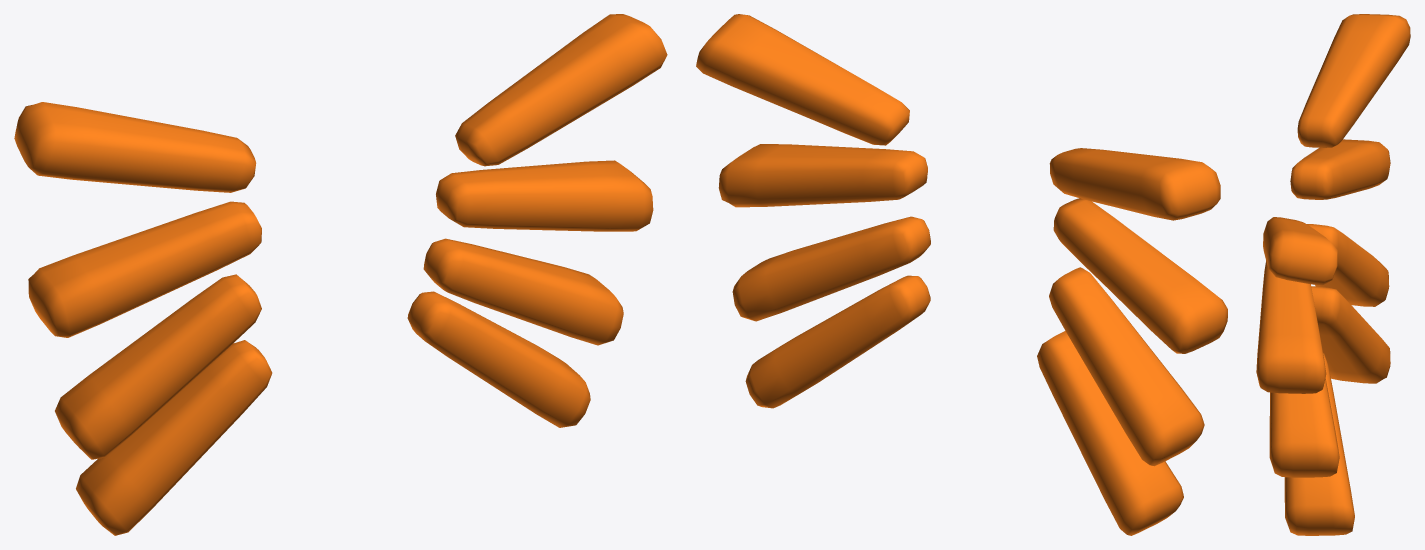
File: Arms.glb
The picture shows the model from 3 angles, left to right: view 1: azimuth 30°, elevation 25°; view 2: azimuth 150°, elevation 25°; view 3: azimuth 270°, elevation 25°; orthographic projection. The views are drawn at different scales.
Parts seen in each view (by area): view 1: Profiler3.001, Profiler3.002, Profiler3.008, Profiler3.003, Profiler3.007, Profiler3.006, Profiler3.005, Profiler3.004; view 2: Profiler3.002, Profiler3.007, Profiler3.001, Profiler3.006, Profiler3.003, Profiler3.005, Profiler3.004, Profiler3.008; view 3: Profiler3.008, Profiler3.006, Profiler3.005, Profiler3.003, Profiler3.004, Profiler3.001, Profiler3.007, Profiler3.002.
Boxes of the visible parts, <box> form: Profiler3.001: <box>28,201,261,337</box>; Profiler3.002: <box>55,274,261,459</box>; Profiler3.008: <box>14,102,256,192</box>; Profiler3.003: <box>76,340,272,535</box>; Profiler3.007: <box>455,14,667,166</box>; Profiler3.006: <box>436,160,653,231</box>; Profiler3.005: <box>423,238,623,345</box>; Profiler3.004: <box>407,291,590,427</box>; Profiler3.002: <box>1049,267,1204,466</box>; Profiler3.007: <box>696,14,909,145</box>; Profiler3.001: <box>1053,198,1227,353</box>; Profiler3.006: <box>718,144,927,207</box>; Profiler3.003: <box>1037,331,1183,535</box>; Profiler3.005: <box>732,216,930,321</box>; Profiler3.004: <box>745,275,930,408</box>; Profiler3.008: <box>1049,148,1220,220</box>; Profiler3.008: <box>1297,14,1410,147</box>; Profiler3.006: <box>1256,261,1326,393</box>; Profiler3.005: <box>1269,378,1339,477</box>; Profiler3.003: <box>1311,286,1390,383</box>; Profiler3.004: <box>1284,353,1354,535</box>; Profiler3.001: <box>1290,139,1390,199</box>; Profiler3.007: <box>1263,217,1337,285</box>; Profiler3.002: <box>1307,224,1389,306</box>.
Size of the model in its own units: 3.75 by 2.52 by 1.02.
